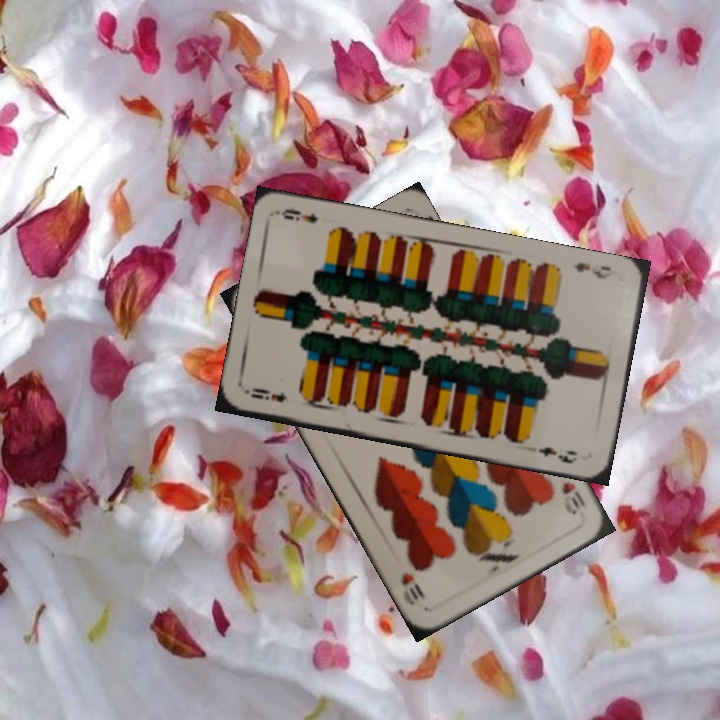E9: (571, 258, 621, 282), (243, 384, 290, 405)
H10: (558, 477, 588, 518)
